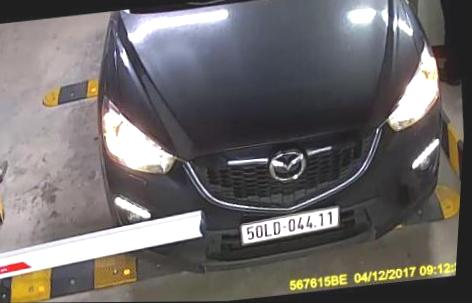License_Plate: (231, 203, 346, 248)
